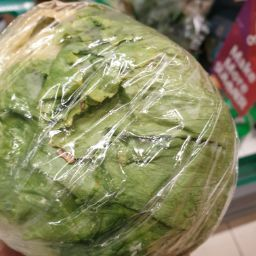Lettuce: (4, 2, 244, 256), (19, 43, 163, 243), (56, 75, 225, 237)
